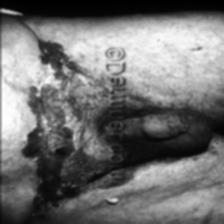Toxin: (53, 177, 87, 205), (51, 134, 80, 161)
